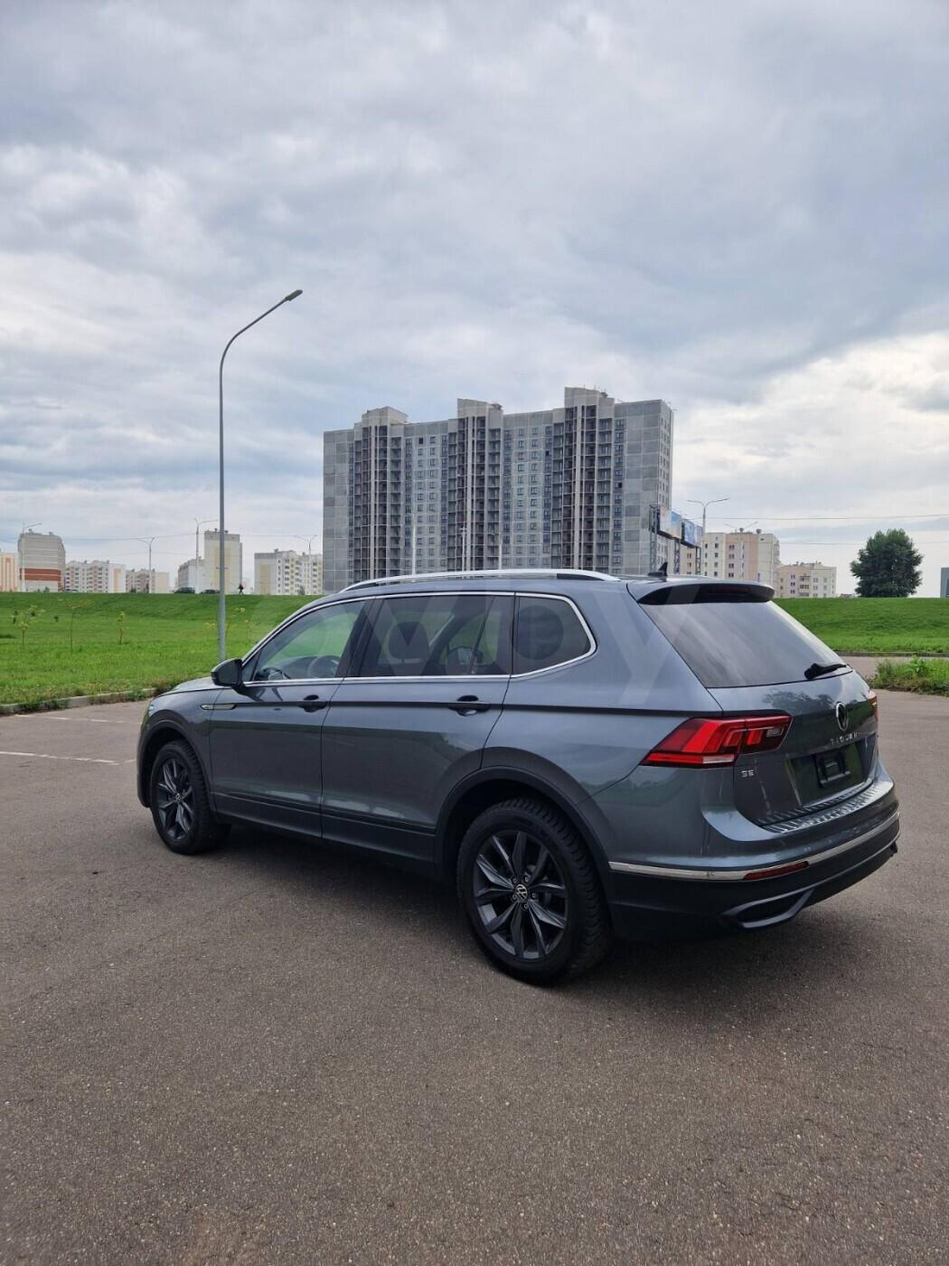Tiguan_2020-2024: (136, 562, 898, 989)
